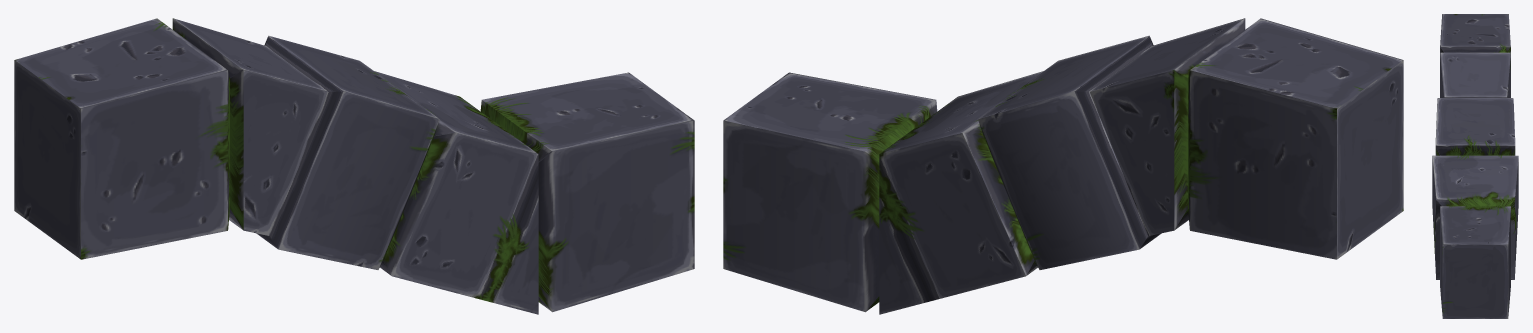
File: MOD_Stairs_01_Railing_4_2.fbx
3 views of the same model, side by side, from view 1: azimuth 30°, elevation 25°; view 2: azimuth 150°, elevation 25°; view 3: azimuth 270°, elevation 25° (orthographic). The views are drawn at different scales.
Parts seen in each view (by area): view 1: MOD_Stairs_01_Railing_4_2; view 2: MOD_Stairs_01_Railing_4_2; view 3: MOD_Stairs_01_Railing_4_2.
Part boxes in pixels (x1,y1,x2,y2): MOD_Stairs_01_Railing_4_2: (14, 18, 694, 314); MOD_Stairs_01_Railing_4_2: (723, 18, 1403, 314); MOD_Stairs_01_Railing_4_2: (1432, 14, 1518, 318).
Size of what is drawn, in the model's own units: 400 by 200 by 97.56.
